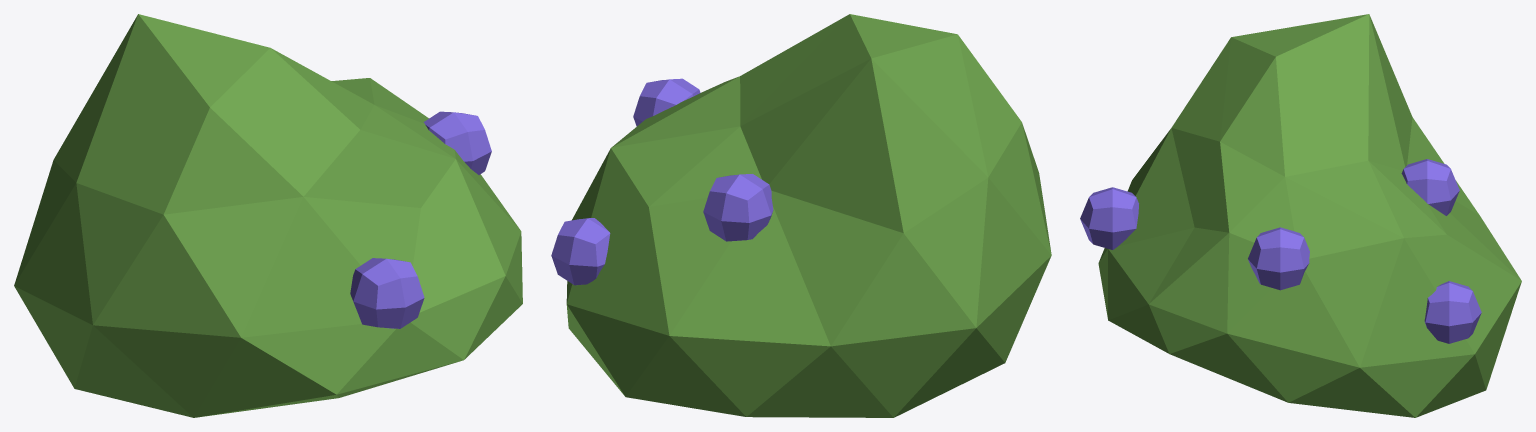
The model's file is BushVar1_V2.fbx.
The picture shows the model from 3 angles, left to right: view 1: azimuth 30°, elevation 25°; view 2: azimuth 150°, elevation 25°; view 3: azimuth 270°, elevation 25°; orthographic projection. The views are drawn at different scales.
Parts seen in each view (by area): view 1: Bush', Fruit1.003; view 2: Bush', Fruit1.003; view 3: Bush', Fruit1.003.
Boxes of the visible parts, x1,y1,x2,y2 form: Bush': (14, 14, 522, 417); Fruit1.003: (350, 111, 491, 328); Bush': (566, 14, 1051, 417); Fruit1.003: (551, 78, 773, 285); Bush': (1098, 14, 1521, 417); Fruit1.003: (1080, 159, 1481, 343).
Bounding box in the file's own units: 93.11 × 74.77 × 95.25.
